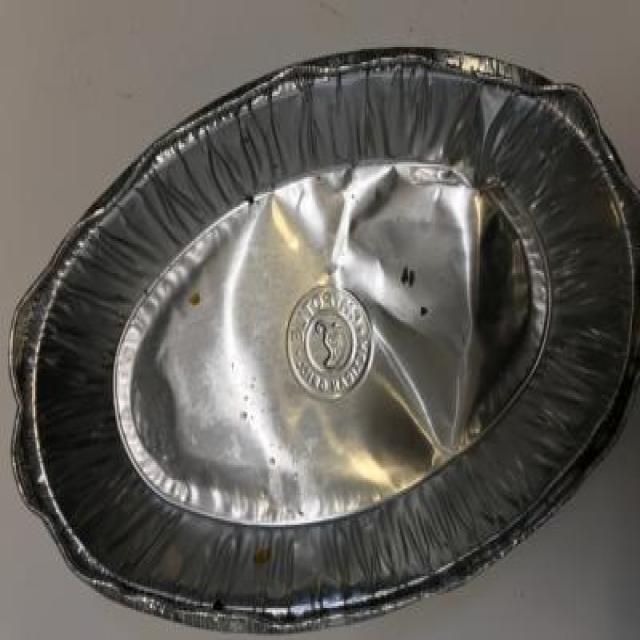metal: (11, 36, 640, 634)
